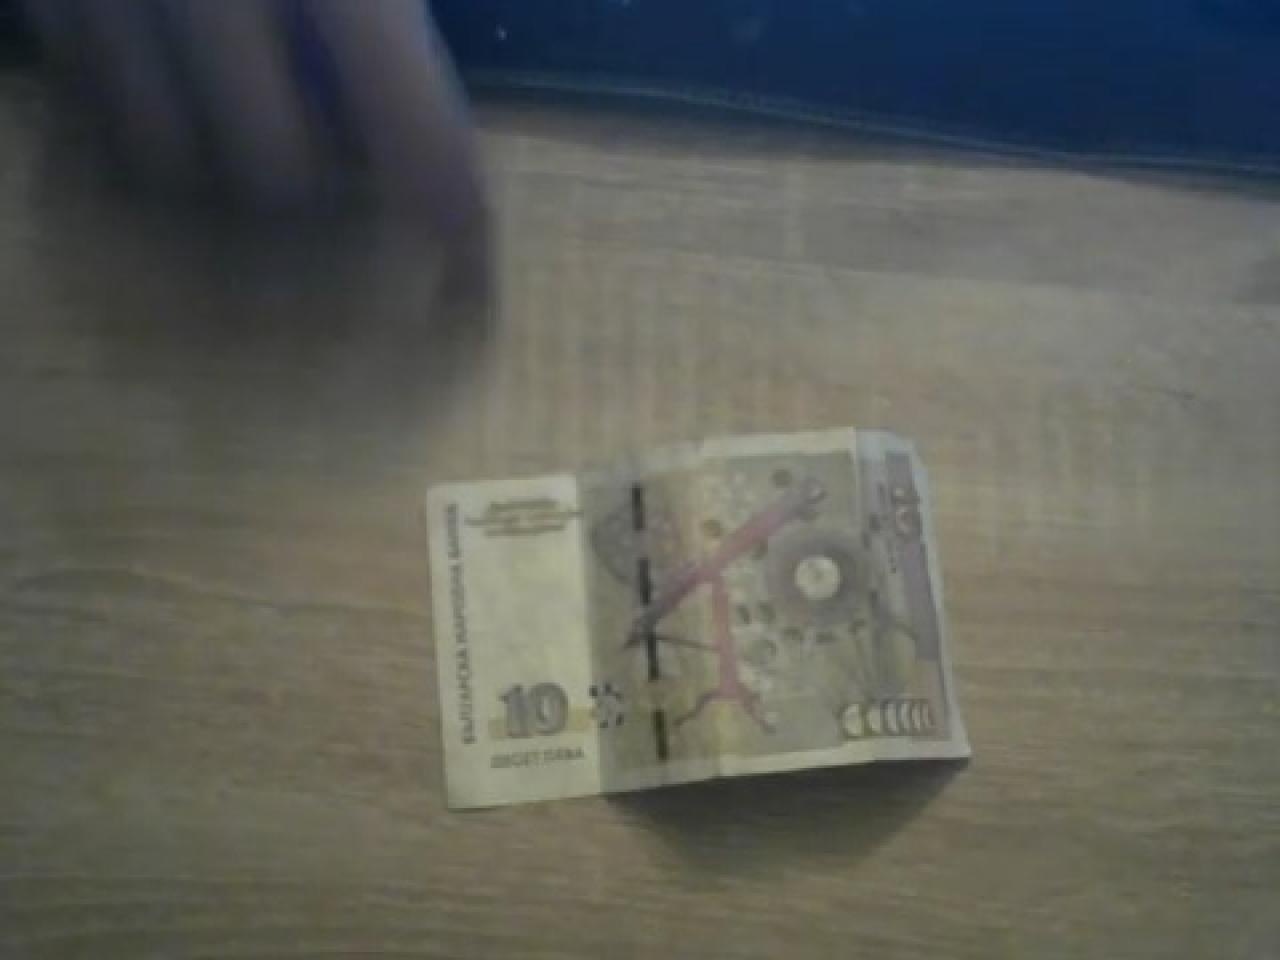10leva: (424, 430, 971, 814)
